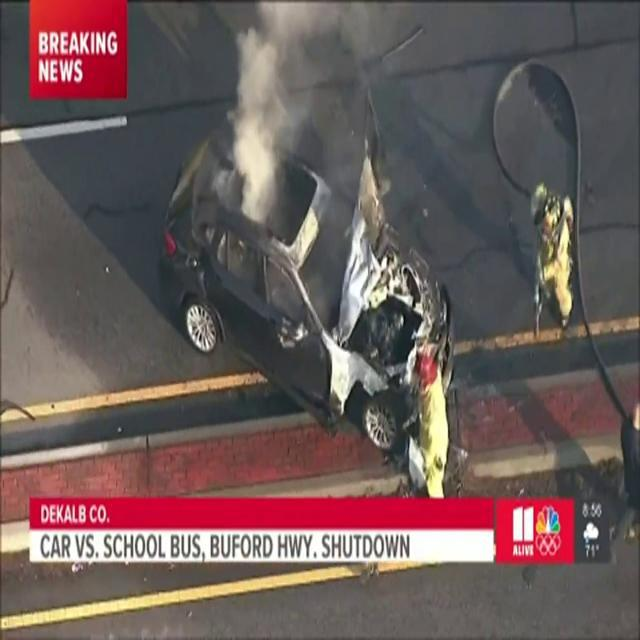Smoke: (223, 0, 390, 224)
